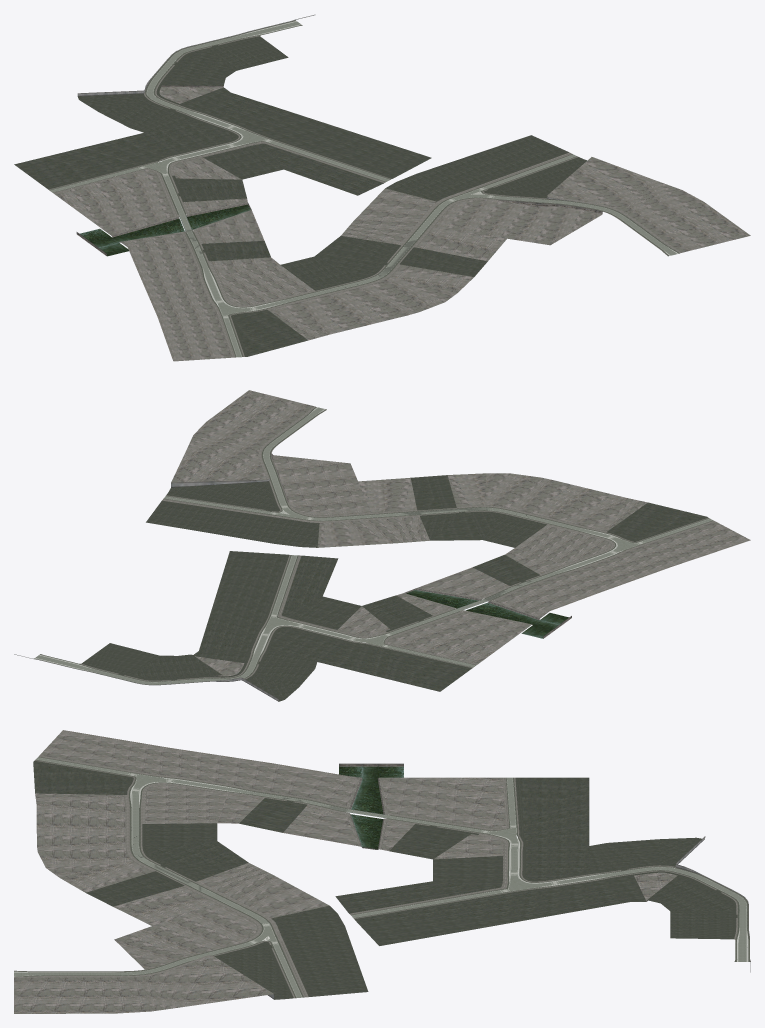
The model's file is stage-indu-env.glb.
3 views of the same model, one above another, from view 1: azimuth 30°, elevation 25°; view 2: azimuth 150°, elevation 25°; view 3: azimuth 270°, elevation 25° (orthographic). The views are drawn at different scales.
Parts seen in each view (by area): view 1: env part 0; view 2: env part 0; view 3: env part 0.
Part boxes in pixels (x1,y1,x2,y2): env part 0: (14,14,750,361); env part 0: (14,390,750,701); env part 0: (14,730,750,1013).
Size of the model in its own units: 2171 by 40.81 by 2320.
Materials: 15 (15 with a texture image).
